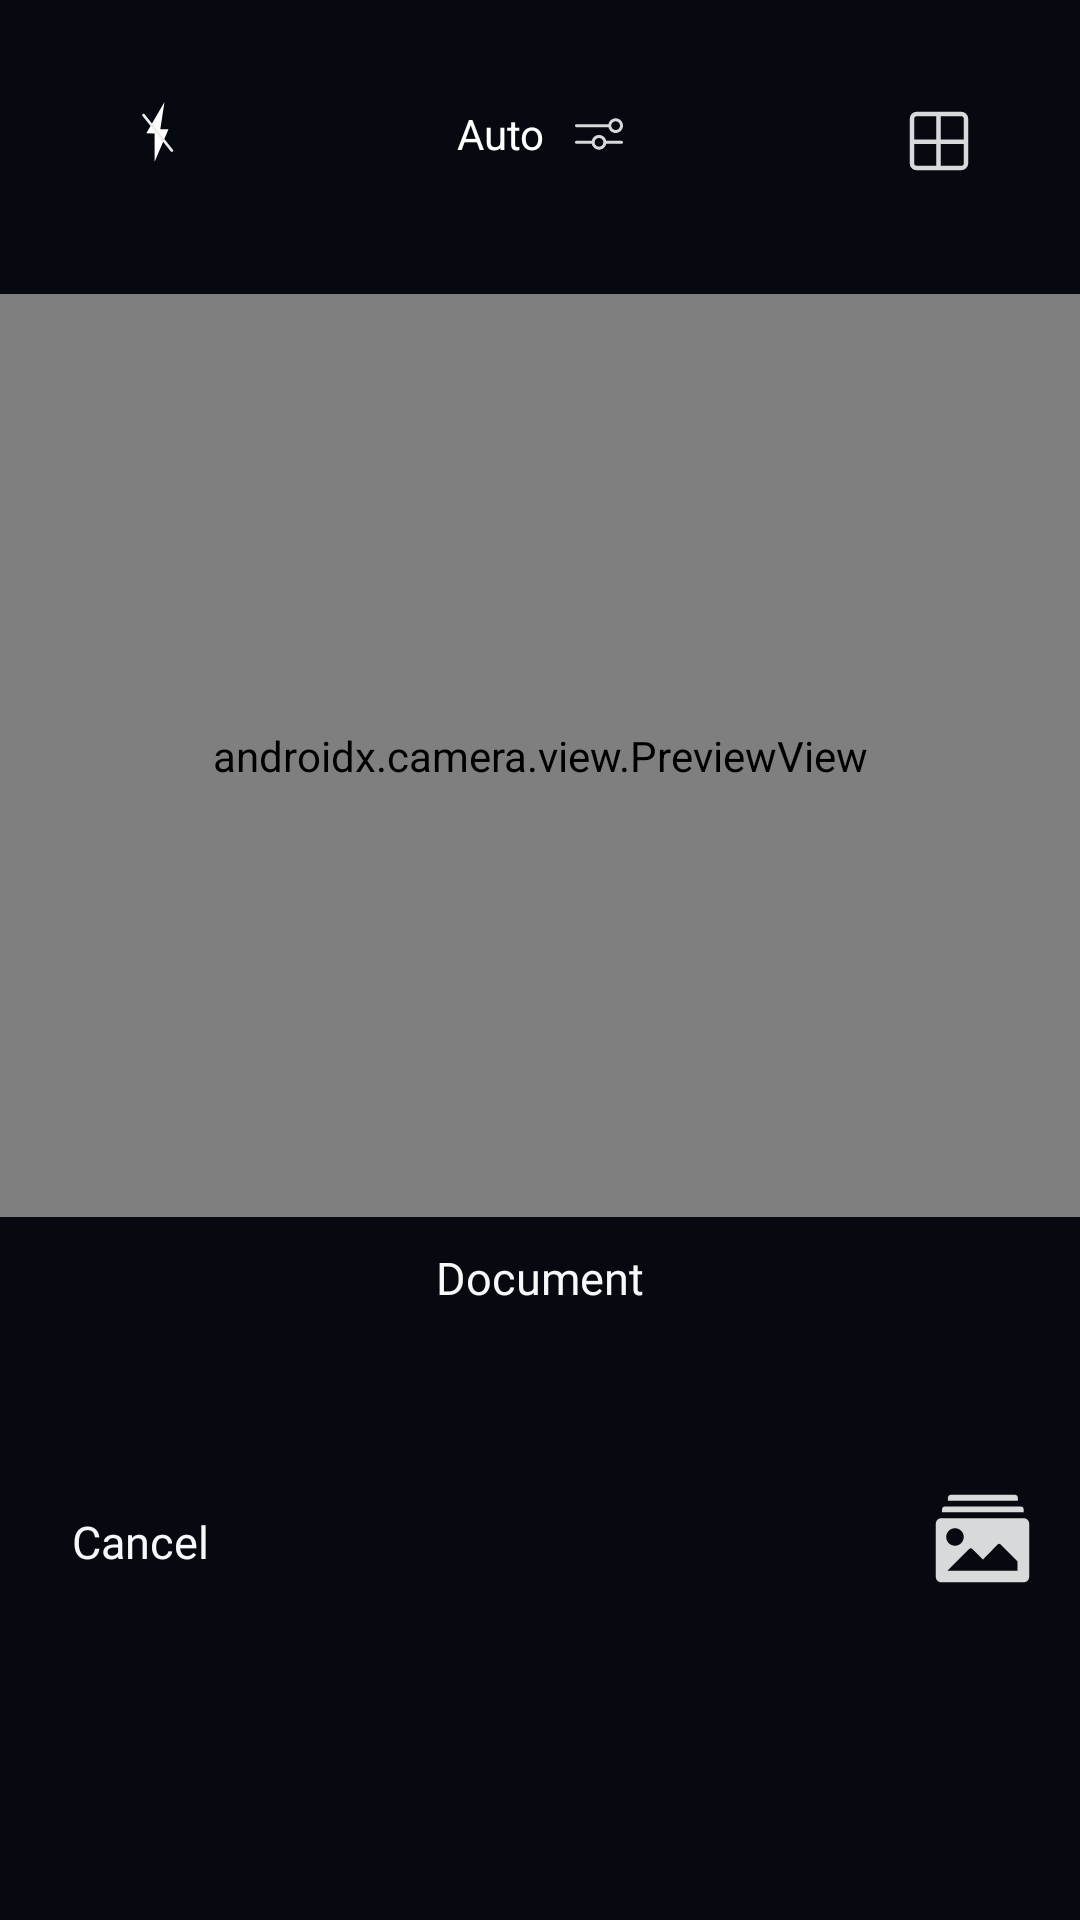

Named icons in this screenshot (1080w x 1920h) and their bounding boxes, {"left": x1, "top": y1, "right": x2, "bottom": y2}:
grid: {"left": 909, "top": 111, "right": 969, "bottom": 171}
multi: {"left": 935, "top": 1494, "right": 1030, "bottom": 1583}
off flash: {"left": 142, "top": 102, "right": 173, "bottom": 162}
